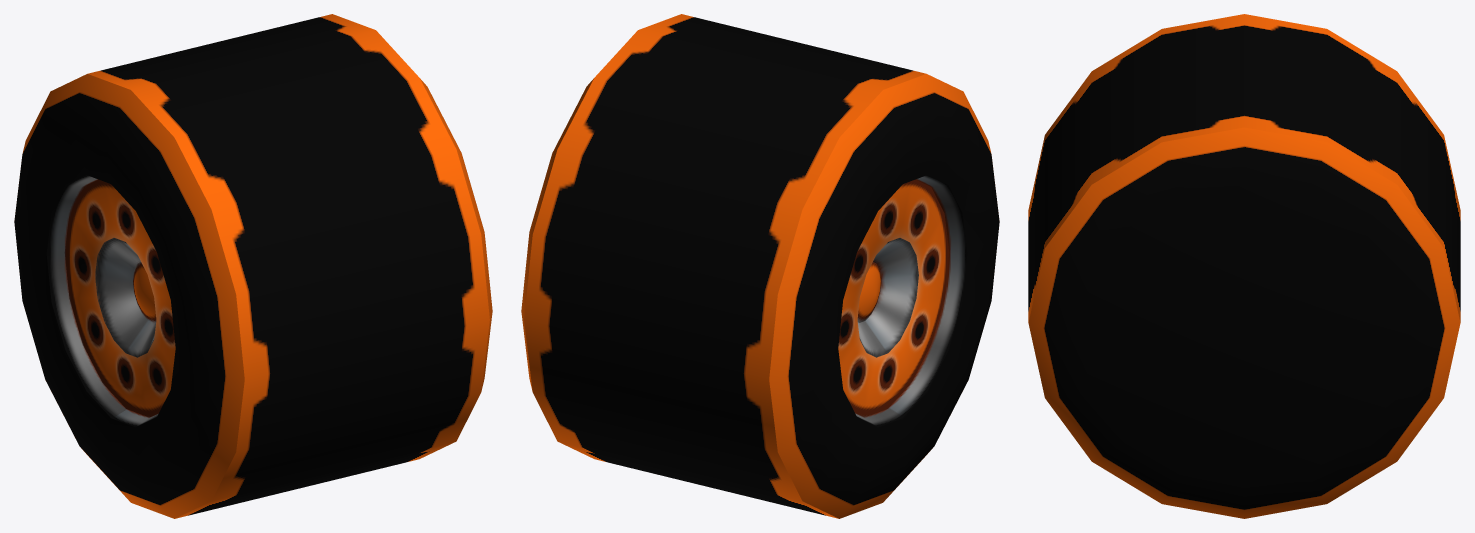
File: wheel_racecar.FBX
3 renders of one model, left to right at view 1: azimuth 30°, elevation 25°; view 2: azimuth 150°, elevation 25°; view 3: azimuth 270°, elevation 25°, orthographic. The views are drawn at different scales.
Visible parts, largest first — view 1: wheel_race; view 2: wheel_race; view 3: wheel_race.
Boxes of the visible parts, <box> form: wheel_race: <box>14,14,492,518</box>; wheel_race: <box>521,14,999,518</box>; wheel_race: <box>1028,14,1460,518</box>.
Size of the model in its own units: 0.0996 by 0.1336 by 0.1336.
